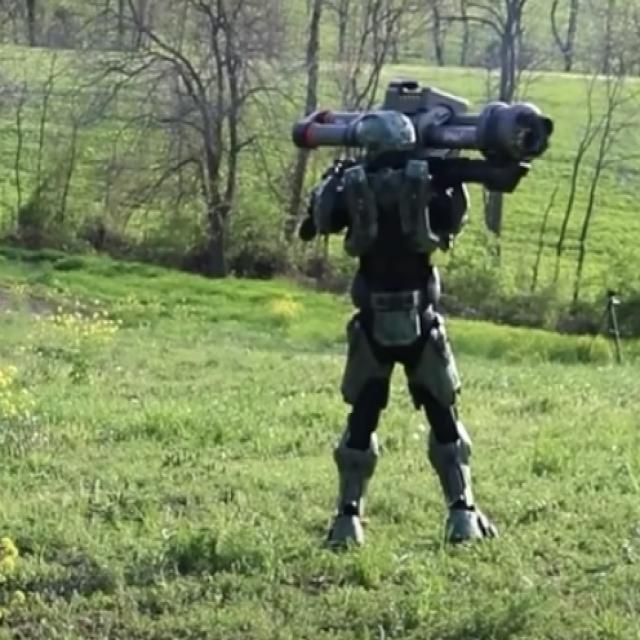bazooka: (288, 70, 561, 213)
